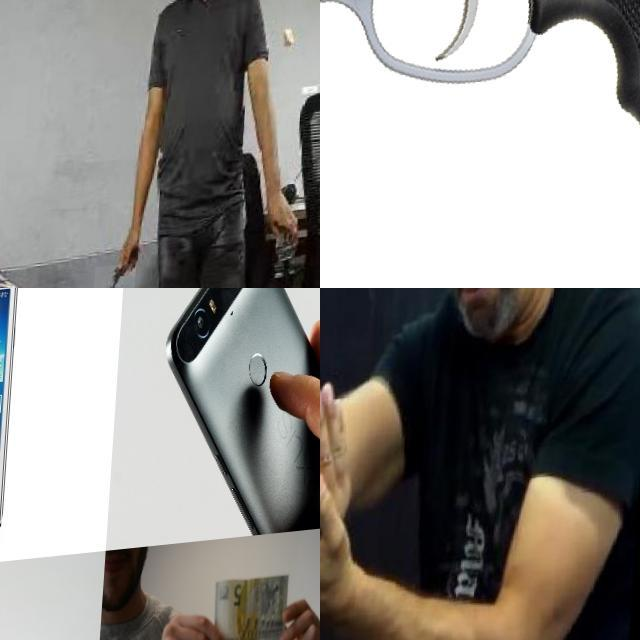-: (320, 288, 383, 640), (100, 269, 143, 288)
gun-knife-thesis - v11 Yolov5 augmented: (320, 0, 640, 288)
